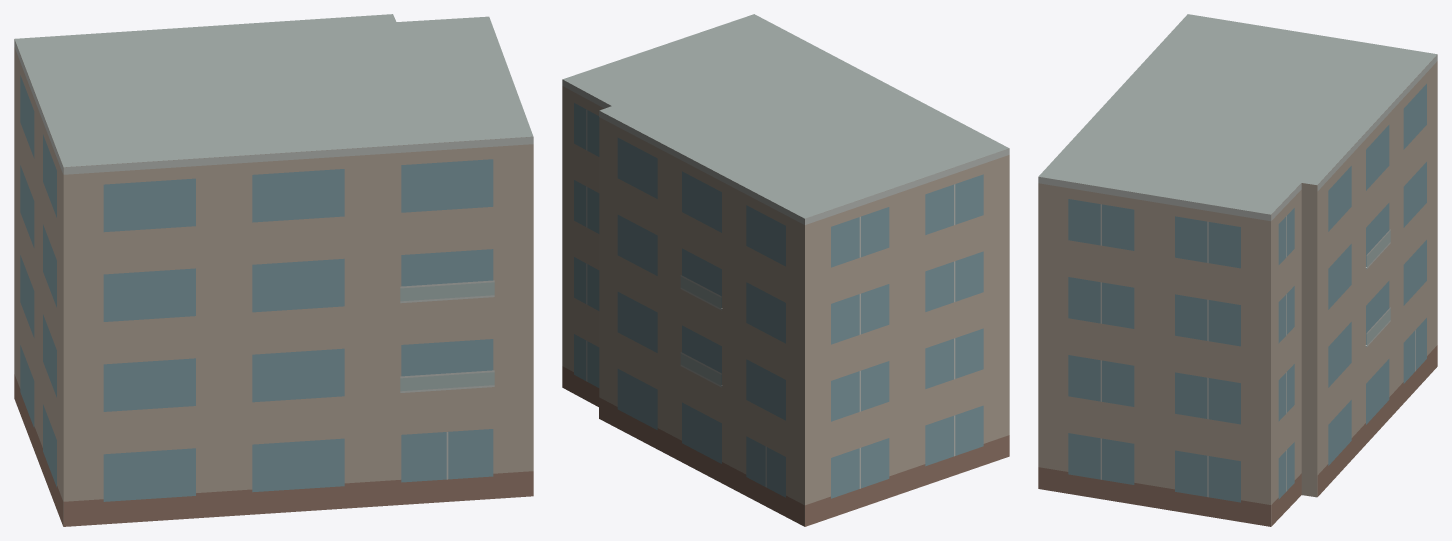
Rendered from survey-upis-32972470.glb.
3 views of the same model, side by side, from view 1: azimuth 30°, elevation 25°; view 2: azimuth 150°, elevation 25°; view 3: azimuth 270°, elevation 25° (orthographic). The views are drawn at different scales.
Visible parts, largest first — view 1: survey-upis-32972470.tmp; view 2: survey-upis-32972470.tmp; view 3: survey-upis-32972470.tmp.
Boxes of the visible parts, <box> form: survey-upis-32972470.tmp: <box>14,14,533,526</box>; survey-upis-32972470.tmp: <box>562,14,1009,526</box>; survey-upis-32972470.tmp: <box>1038,14,1437,526</box>.
Bounding box in the file's own units: 16 × 11.6 × 13.46.
